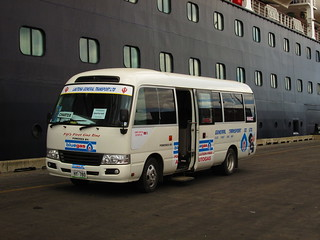bus: (46, 68, 256, 194)
